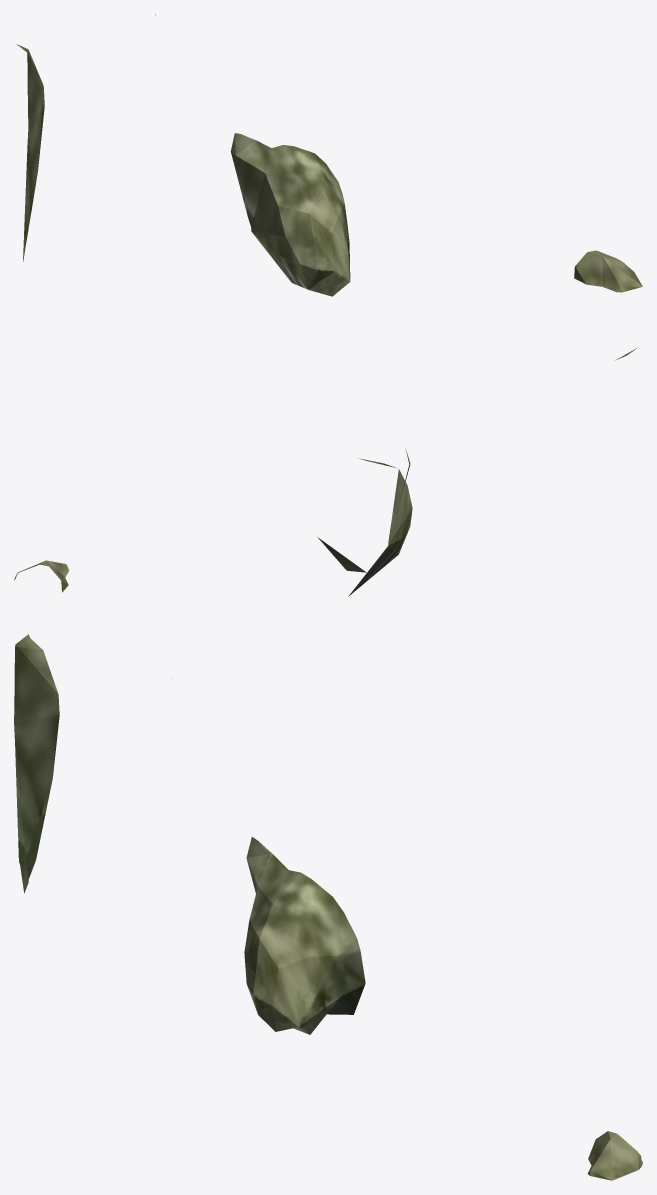
3 views of the same model, one above another, from view 1: azimuth 30°, elevation 25°; view 2: azimuth 150°, elevation 25°; view 3: azimuth 330°, elevation 25° (orthographic).
Bounding box in the file's own units: 2.36 × 1.38 × 0.2708.
Materials: 1 (1 with a texture image).
